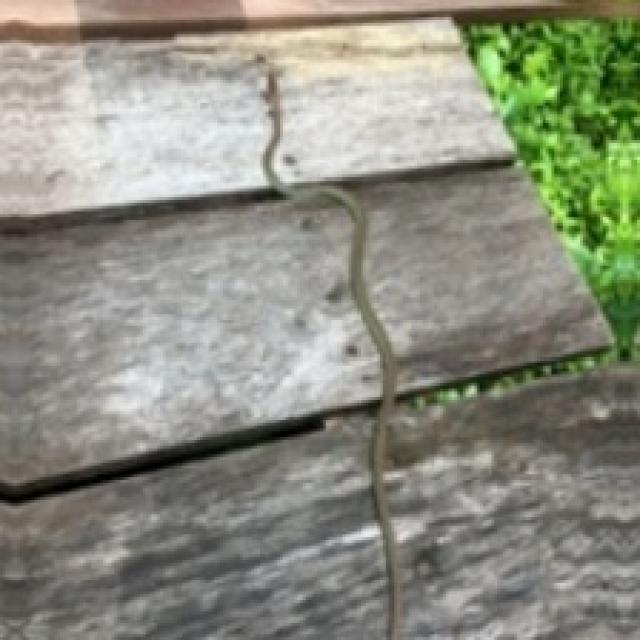paradise tree snake: (263, 69, 400, 637)
